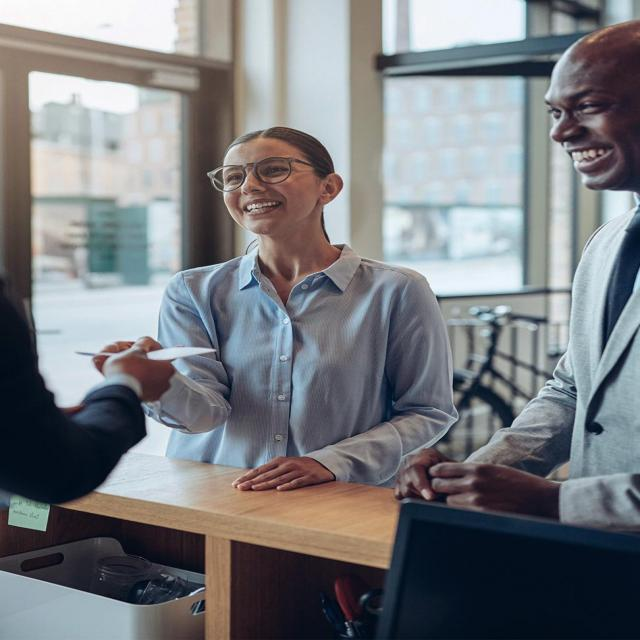No_BreathingApparatus: (546, 89, 638, 191), (221, 152, 325, 242)
No_Glove: (231, 448, 339, 502), (99, 336, 182, 405), (414, 451, 489, 512)
No_Helmet: (543, 18, 640, 114), (214, 115, 346, 165)
Person: (122, 107, 470, 500)
